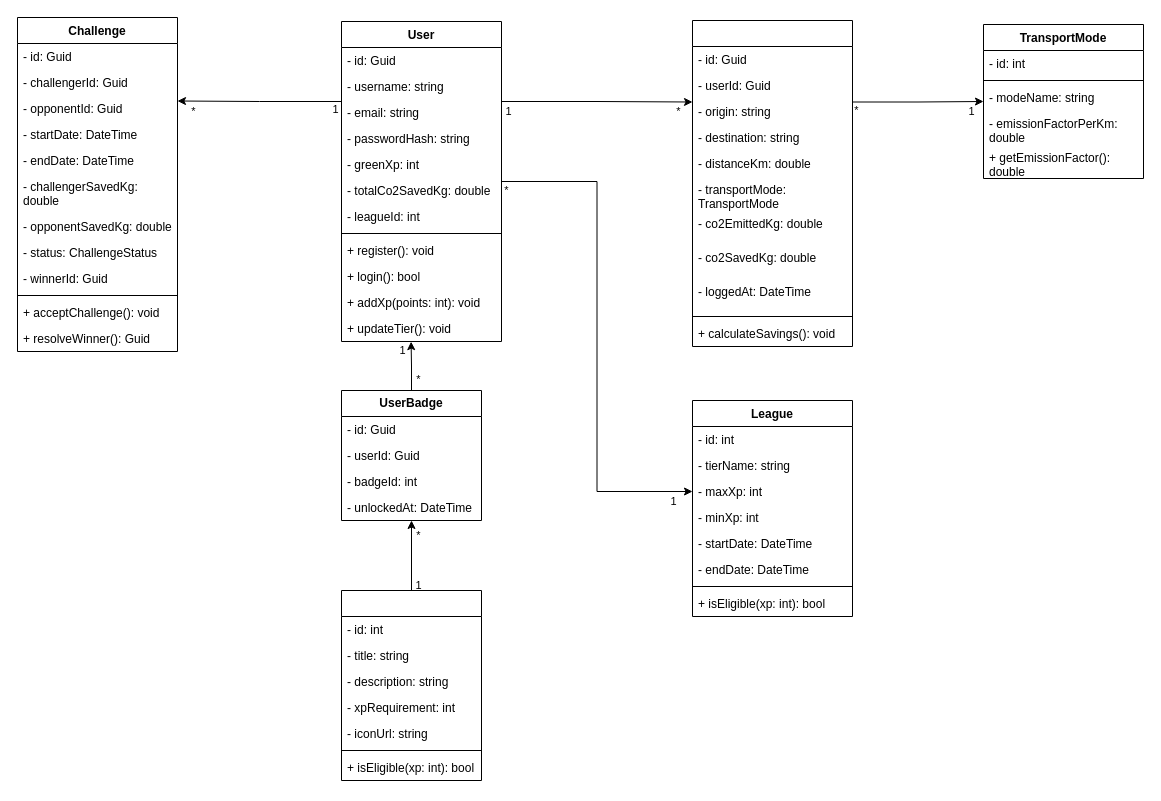
The diagram is 1161 pixels wide and 801 high, and some of its shapes have lost their labels. The box of each missing label's shape, as (x1, y1, x2, y2) in pixels:
Badge: (340, 590, 482, 780)
TripLog: (692, 20, 852, 346)
